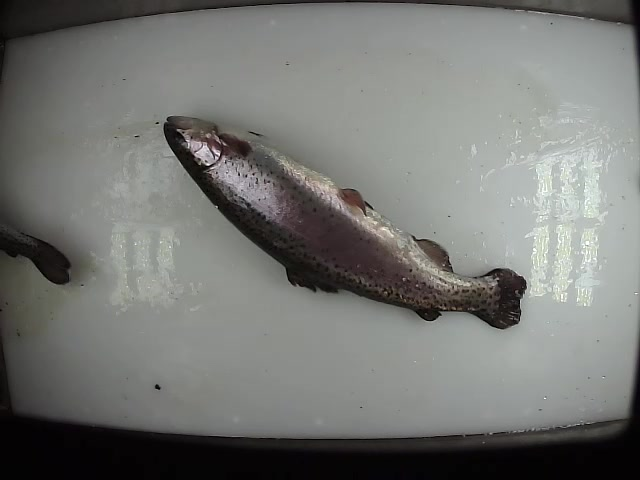fish: (162, 114, 528, 330)
